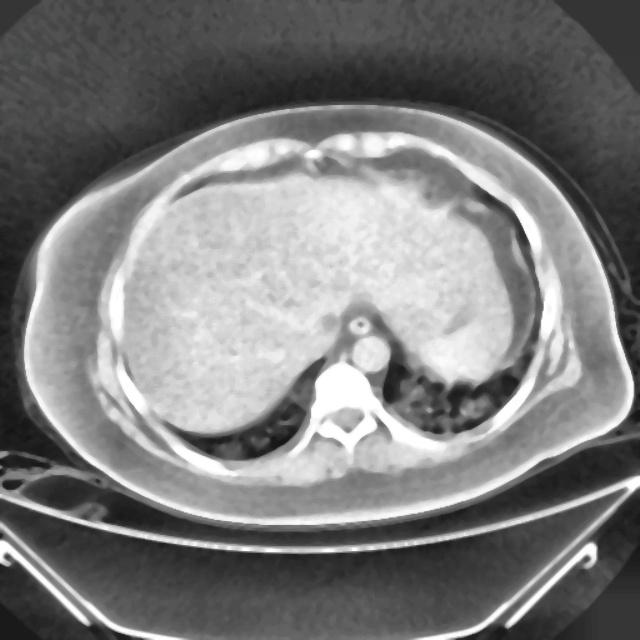covid: (13, 99, 634, 532)
